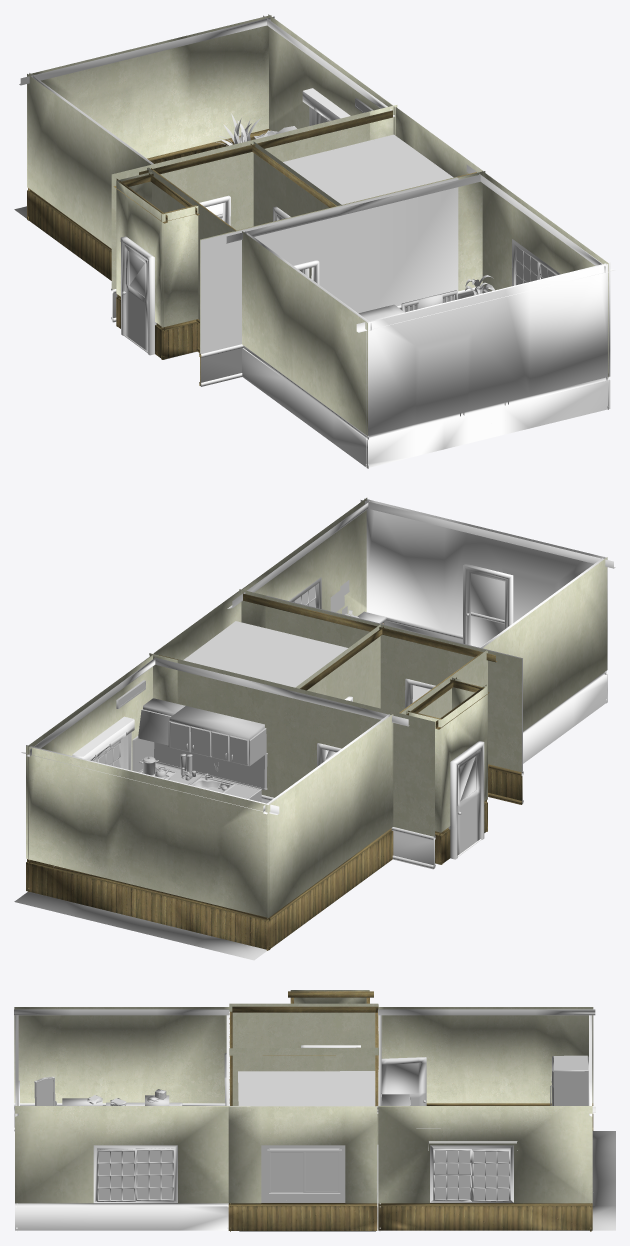
The model's file is stage.glb.
The picture shows the model from 3 angles, top to bottom: view 1: azimuth 30°, elevation 25°; view 2: azimuth 150°, elevation 25°; view 3: azimuth 270°, elevation 25°; orthographic projection. The views are drawn at different scales.
Visible parts, largest first — view 1: KORE_export_Naruto_Room_Wall02, KORE_export_Naruto_Apartment_Kitchen_Trash_Can_2, KORE_export_Naruto Bathroom Cream Tube, KORE_export_Naruto_Room_Crown_Moulding06, KORE_export_Naruto_Apartment_Bathroom_Stool; view 2: KORE_export_Naruto_Room_Wall02, KORE_export_Naruto_Apartment_Kitchen_Trash_Can_2, KORE_export_Naruto_Room_Crown_Moulding06, KORE_export_Naruto Bathroom Cream Tube, KORE_export_Naruto_Apartment_ Bedroom_Plant_1, KORE_export_Naruto_Apartment_Bathroom_Stool; view 3: KORE_export_Naruto_Room_Wall02, KORE_export_Naruto Bathroom Cream Tube, KORE_export_Naruto_Room_Crown_Moulding06, KORE_export_Naruto_Apartment_Kitchen_Trash_Can_2, KORE_export_Naruto_Apartment_ Bedroom_Plant_1, KORE_export_Naruto_Room_Bedroom_Plant.
Part boxes in pixels (x1,y1,x2,y2): KORE_export_Naruto_Room_Wall02: (27,14,608,435); KORE_export_Naruto_Apartment_Kitchen_Trash_Can_2: (19,15,614,468); KORE_export_Naruto Bathroom Cream Tube: (14,113,560,359); KORE_export_Naruto_Room_Crown_Moulding06: (27,110,476,385); KORE_export_Naruto_Apartment_Bathroom_Stool: (205,88,350,219); KORE_export_Naruto_Room_Wall02: (26,498,607,918); KORE_export_Naruto_Apartment_Kitchen_Trash_Can_2: (21,498,615,869); KORE_export_Naruto_Room_Crown_Moulding06: (26,593,522,950); KORE_export_Naruto Bathroom Cream Tube: (14,577,507,960); KORE_export_Naruto_Apartment_ Bedroom_Plant_1: (116,610,359,802); KORE_export_Naruto_Apartment_Bathroom_Stool: (72,716,134,760); KORE_export_Naruto_Room_Wall02: (14,990,593,1203); KORE_export_Naruto Bathroom Cream Tube: (62,1057,615,1231); KORE_export_Naruto_Room_Crown_Moulding06: (228,991,593,1231); KORE_export_Naruto_Apartment_Kitchen_Trash_Can_2: (14,1009,595,1231); KORE_export_Naruto_Apartment_ Bedroom_Plant_1: (381,1055,588,1128); KORE_export_Naruto_Room_Bedroom_Plant: (34,1076,56,1105).
Size of the model in its own units: 8.73 by 4.26 by 18.
Materials: 7 (3 with a texture image).
